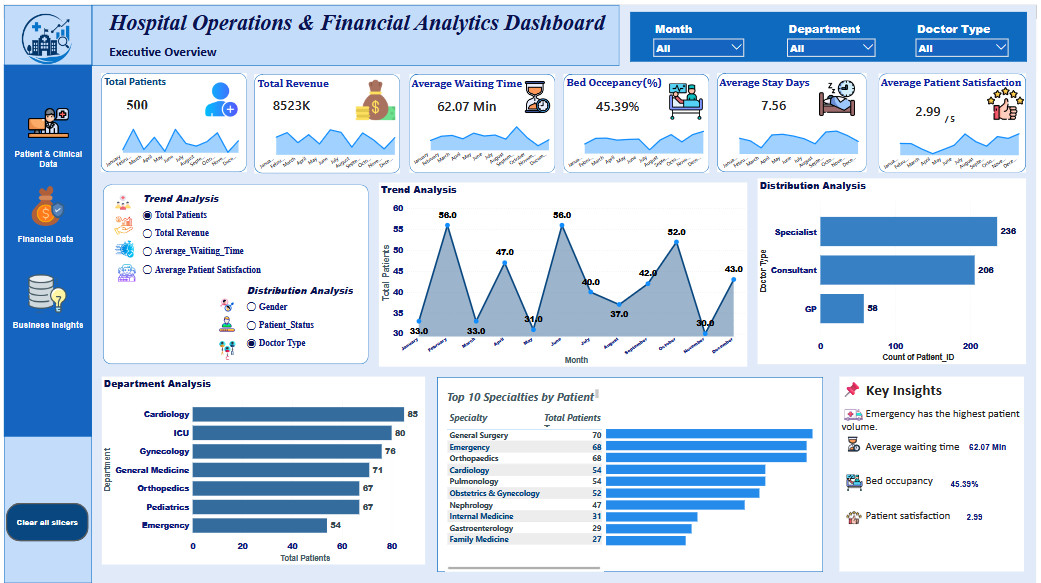

The page's visual inventory and layout, read from the dashboard file:
{"tool":"powerbi","page":{"name":"Page 1","canvas":[2500,1400],"ordinal":0},"visuals":[{"type":"textbox","box":[2023.3,900,446.7,471.7],"z":0},{"type":"shape","box":[240,435,642.5,435],"z":1000},{"type":"shape","box":[0,0,212.5,1400],"z":2000},{"type":"shape","box":[0,145,212.5,1015],"z":3000},{"type":"shape","box":[212.5,0,2288,148],"z":4000},{"type":"textbox","box":[250,6.7,1230,77.5],"z":5000},{"type":"image","box":[0,0,212.5,165],"z":6000},{"type":"shape","box":[235,165,352.5,240],"z":7000},{"type":"shape","box":[1726.5,165,362.5,240],"z":8000},{"type":"shape","box":[606,168,352.5,240],"z":9000},{"type":"shape","box":[982,167,352.5,240],"z":10000},{"type":"shape","box":[1355,167,352.5,240],"z":11000},{"type":"shape","box":[2117.5,166,357.5,240],"z":12000},{"type":"cardVisual","fields":{"Data":["Government_Hospital_Operations_Dataset_Project.Total Patients"]},"box":[264.5,211.8,115.5,60],"z":13000},{"type":"textbox","box":[238,165,176.7,48.3],"z":14000},{"type":"areaChart","fields":{"Y":["Government_Hospital_Operations_Dataset_Project.Total Patients"],"Category":["Government_Hospital_Operations_Dataset_Project.Date.Variation.Date Hierarchy.Month"]},"box":[238,279,345,126],"z":15000},{"type":"textbox","box":[609,169,207,47],"z":16000},{"type":"areaChart","fields":{"Y":["Government_Hospital_Operations_Dataset_Project.Total Revenue"],"Category":["Government_Hospital_Operations_Dataset_Project.Date.Variation.Date Hierarchy.Month"]},"box":[609,287,353,122],"z":17000},{"type":"cardVisual","fields":{"Data":["Government_Hospital_Operations_Dataset_Project.Total Revenue"]},"box":[622,205,156,71],"z":18000},{"type":"cardVisual","fields":{"Data":["Government_Hospital_Operations_Dataset_Project.Average Waiting Time"]},"box":[1020,205,230,75],"z":19000},{"type":"textbox","box":[982,169,290,46],"z":20000},{"type":"areaChart","fields":{"Y":["Avg(Government_Hospital_Operations_Dataset_Project.Waiting_Time_Minutes)"],"Category":["Government_Hospital_Operations_Dataset_Project.Date.Variation.Date Hierarchy.Month"]},"box":[982.5,257.5,352.9,147.1],"z":21000},{"type":"textbox","box":[1357,167,266,46],"z":22000},{"type":"cardVisual","fields":{"Data":["Government_Hospital_Operations_Dataset_Project.Beds Occepancy (%)"]},"box":[1404.3,204.9,193,76],"z":23000},{"type":"cardVisual","fields":{"Data":["Government_Hospital_Operations_Dataset_Project.Average Patient Satisfaction"]},"box":[2177.5,221,123.8,65],"z":24000},{"type":"cardVisual","fields":{"Data":["Government_Hospital_Operations_Dataset_Project.Average Stay Days"]},"box":[1805.1,202.9,132.9,75.7],"z":25000},{"type":"stackedAreaChart","fields":{"Category":["Government_Hospital_Operations_Dataset_Project.Date.Variation.Date Hierarchy.Month"],"Y":["Government_Hospital_Operations_Dataset_Project.Beds Occepancy (%)"]},"box":[1355.7,284.9,352.9,121.4],"z":26000},{"type":"textbox","box":[1726.5,165.7,290,46],"z":27000},{"type":"stackedAreaChart","fields":{"Category":["Government_Hospital_Operations_Dataset_Project.Date.Variation.Date Hierarchy.Month"],"Y":["Government_Hospital_Operations_Dataset_Project.Average Patient Satisfaction"]},"box":[2120,288.5,352.9,121.4],"z":28000},{"type":"areaChart","fields":{"Category":["Government_Hospital_Operations_Dataset_Project.Date.Variation.Date Hierarchy.Month"],"Y":["Government_Hospital_Operations_Dataset_Project.Average Stay Days"]},"box":[1730.8,285.7,352.9,121.4],"z":29000},{"type":"textbox","box":[2117.5,166,352.5,43.8],"z":30000},{"type":"textbox","box":[2272.5,258.5,58.8,60],"z":31000},{"type":"areaChart","title":"Trend Analysis","fields":{"Y":["Government_Hospital_Operations_Dataset_Project.Total Patients"],"Category":["Government_Hospital_Operations_Dataset_Project.Date.Variation.Date Hierarchy.Month"]},"box":[907.5,430,892.9,445.7],"z":32000},{"type":"textbox","box":[250,87.5,317.5,60],"z":33000},{"type":"barChart","title":"Department Analysis","fields":{"Y":["Government_Hospital_Operations_Dataset_Project.Total Patients"],"Category":["Government_Hospital_Operations_Dataset_Project.Department"]},"box":[236.7,900,783.3,455],"z":34000},{"type":"shape","box":[1049.3,902.3,933.3,470],"z":35000},{"type":"textbox","box":[37.5,205,137.5,37.5],"z":36000},{"type":"shape","box":[0.8,218.3,211.7,47.5],"z":37000},{"type":"image","box":[11.7,210,25.8,26.7],"z":38000},{"type":"slicer","fields":{"Values":["Government_Hospital_Operations_Dataset_Project.Date.Variation.Date Hierarchy.Month"]},"box":[12.2,254.4,183.3,285.6],"z":39000},{"type":"slicer","fields":{"Values":["Government_Hospital_Operations_Dataset_Project.Department"]},"box":[12.2,342.2,183.3,310],"z":40000},{"type":"slicer","fields":{"Values":["Government_Hospital_Operations_Dataset_Project.Doctor Type"]},"box":[8.3,441.7,183.3,233.3],"z":41000},{"type":"tableEx","fields":{"Values":["Government_Hospital_Operations_Dataset_Project.Specialty","Government_Hospital_Operations_Dataset_Project.Total Patients"]},"box":[1067.5,977.5,385,395],"z":42000},{"type":"textbox","box":[1067.3,926.3,377.5,48.8],"z":43000},{"type":"barChart","fields":{"Category":["Government_Hospital_Operations_Dataset_Project.Specialty"],"Y":["Government_Hospital_Operations_Dataset_Project.Total Patients"]},"box":[1453.3,1014.3,510,300],"z":44000},{"type":"image","box":[1250,182.5,85,80],"z":45000},{"type":"image","box":[850,180,100,100],"z":46000},{"type":"image","box":[1597.5,190,105,87.5],"z":47000},{"type":"image","box":[1965,182.5,102.5,87.5],"z":48000},{"type":"image","box":[2380,187.5,90,102.5],"z":49000},{"type":"image","box":[480,172,95,112.5],"z":50000},{"type":"actionButton","box":[7.5,1227.5,200,92.5],"z":51000},{"type":"actionButton","box":[17.5,822.5,180,92],"z":52000},{"type":"actionButton","box":[15,947.5,180,92.5],"z":53000},{"type":"actionButton","box":[15,700,180,92],"z":54000},{"type":"slicer","fields":{"Values":["Trend Analysis.Trend Analysis"]},"box":[323,448,322.9,221.4],"z":55000},{"type":"clusteredBarChart","title":"Distribution Analysis","fields":{"Category":["Government_Hospital_Operations_Dataset_Project.Doctor Type"],"Y":["CountNonNull(Government_Hospital_Operations_Dataset_Project.Patient_ID)"]},"box":[1825,420,650,450],"z":56000},{"type":"slicer","fields":{"Values":["Distribution Analysis.Distribution Analysis"]},"box":[575,670,306.7,190],"z":57000},{"type":"cardVisual","fields":{"Data":["Government_Hospital_Operations_Dataset_Project.Beds Occepancy (%)"]},"box":[2263.3,1126.7,134.3,65.7],"z":58000},{"type":"cardVisual","fields":{"Data":["Government_Hospital_Operations_Dataset_Project.Average Patient Satisfaction"]},"box":[2301.7,1206.7,123.8,65],"z":59000},{"type":"cardVisual","fields":{"Data":["Government_Hospital_Operations_Dataset_Project.Average Waiting Time"]},"box":[2308.3,1026.7,156.7,86.7],"z":60000},{"type":"image","box":[2038.3,1045,40,38.3],"z":61000},{"type":"image","box":[2035,1136.7,48.3,41.7],"z":62000},{"type":"image","box":[2040,1206.7,36.7,66.7],"z":63000},{"type":"image","box":[2023.3,970,66.7,45],"z":64000},{"type":"image","box":[261,459,55,37.5],"z":65000},{"type":"image","box":[257,512,63.8,46.2],"z":66000},{"type":"image","box":[265,569,55,45],"z":67000},{"type":"image","box":[268,627,58.8,42.5],"z":68000},{"type":"image","box":[513,753,55,38.8],"z":69000},{"type":"image","box":[511,707,58.8,38.8],"z":70000},{"type":"image","box":[507,814,68,46],"z":71000}]}

Visuals, with their boxes in screenshot pixels (x1, y1, x2, y2), scaled from the page's 2500x1400 canvas onto the 1041x583 screenshot:
textbox: Rect(843, 375, 1029, 571)
shape: Rect(100, 181, 367, 362)
shape: Rect(0, 0, 88, 582)
shape: Rect(0, 60, 88, 483)
shape: Rect(88, 0, 1040, 62)
textbox: Rect(104, 3, 616, 35)
image: Rect(0, 0, 88, 69)
shape: Rect(98, 69, 245, 169)
shape: Rect(719, 69, 870, 169)
shape: Rect(252, 70, 399, 170)
shape: Rect(409, 70, 556, 169)
shape: Rect(564, 70, 711, 169)
shape: Rect(882, 69, 1031, 169)
cardVisual - Government_Hospital_Operations_Dataset_Project.Total Patients: Rect(110, 88, 158, 113)
textbox: Rect(99, 69, 173, 89)
areaChart - Government_Hospital_Operations_Dataset_Project.Total Patients x Government_Hospital_Operations_Dataset_Project.Date.Variation.Date Hierarchy.Month: Rect(99, 116, 243, 169)
textbox: Rect(254, 70, 340, 90)
areaChart - Government_Hospital_Operations_Dataset_Project.Total Revenue x Government_Hospital_Operations_Dataset_Project.Date.Variation.Date Hierarchy.Month: Rect(254, 120, 401, 170)
cardVisual - Government_Hospital_Operations_Dataset_Project.Total Revenue: Rect(259, 85, 324, 115)
cardVisual - Government_Hospital_Operations_Dataset_Project.Average Waiting Time: Rect(425, 85, 520, 117)
textbox: Rect(409, 70, 530, 90)
areaChart - Avg(Government_Hospital_Operations_Dataset_Project.Waiting_Time_Minutes) x Government_Hospital_Operations_Dataset_Project.Date.Variation.Date Hierarchy.Month: Rect(409, 107, 556, 168)
textbox: Rect(565, 70, 676, 89)
cardVisual - Government_Hospital_Operations_Dataset_Project.Beds Occepancy (%): Rect(585, 85, 665, 117)
cardVisual - Government_Hospital_Operations_Dataset_Project.Average Patient Satisfaction: Rect(907, 92, 958, 119)
cardVisual - Government_Hospital_Operations_Dataset_Project.Average Stay Days: Rect(752, 84, 807, 116)
stackedAreaChart - Government_Hospital_Operations_Dataset_Project.Date.Variation.Date Hierarchy.Month x Government_Hospital_Operations_Dataset_Project.Beds Occepancy (%): Rect(565, 119, 711, 169)
textbox: Rect(719, 69, 840, 88)
stackedAreaChart - Government_Hospital_Operations_Dataset_Project.Date.Variation.Date Hierarchy.Month x Government_Hospital_Operations_Dataset_Project.Average Patient Satisfaction: Rect(883, 120, 1030, 171)
areaChart - Government_Hospital_Operations_Dataset_Project.Date.Variation.Date Hierarchy.Month x Government_Hospital_Operations_Dataset_Project.Average Stay Days: Rect(721, 119, 868, 170)
textbox: Rect(882, 69, 1029, 87)
textbox: Rect(946, 108, 971, 133)
"Trend Analysis" areaChart: Rect(378, 179, 750, 365)
textbox: Rect(104, 36, 236, 61)
"Department Analysis" barChart: Rect(99, 375, 425, 564)
shape: Rect(437, 376, 826, 571)
textbox: Rect(16, 85, 73, 101)
shape: Rect(0, 91, 88, 111)
image: Rect(5, 87, 16, 99)
slicer - Government_Hospital_Operations_Dataset_Project.Date.Variation.Date Hierarchy.Month: Rect(5, 106, 81, 225)
slicer - Government_Hospital_Operations_Dataset_Project.Department: Rect(5, 143, 81, 272)
slicer - Government_Hospital_Operations_Dataset_Project.Doctor Type: Rect(3, 184, 80, 281)
tableEx - Government_Hospital_Operations_Dataset_Project.Specialty x Government_Hospital_Operations_Dataset_Project.Total Patients: Rect(445, 407, 605, 572)
textbox: Rect(444, 386, 602, 406)
barChart - Government_Hospital_Operations_Dataset_Project.Specialty x Government_Hospital_Operations_Dataset_Project.Total Patients: Rect(605, 422, 818, 547)
image: Rect(520, 76, 556, 109)
image: Rect(354, 75, 396, 117)
image: Rect(665, 79, 709, 116)
image: Rect(818, 76, 861, 112)
image: Rect(991, 78, 1029, 121)
image: Rect(200, 72, 239, 118)
actionButton: Rect(3, 511, 86, 550)
actionButton: Rect(7, 343, 82, 381)
actionButton: Rect(6, 395, 81, 433)
actionButton: Rect(6, 292, 81, 330)
slicer - Trend Analysis.Trend Analysis: Rect(134, 187, 269, 279)
"Distribution Analysis" clusteredBarChart: Rect(760, 175, 1031, 362)
slicer - Distribution Analysis.Distribution Analysis: Rect(239, 279, 367, 358)
cardVisual - Government_Hospital_Operations_Dataset_Project.Beds Occepancy (%): Rect(942, 469, 998, 497)
cardVisual - Government_Hospital_Operations_Dataset_Project.Average Patient Satisfaction: Rect(958, 503, 1010, 530)
cardVisual - Government_Hospital_Operations_Dataset_Project.Average Waiting Time: Rect(961, 428, 1026, 464)
image: Rect(849, 435, 865, 451)
image: Rect(847, 473, 867, 491)
image: Rect(849, 503, 865, 530)
image: Rect(843, 404, 870, 423)
image: Rect(109, 191, 132, 207)
image: Rect(107, 213, 134, 232)
image: Rect(110, 237, 133, 256)
image: Rect(112, 261, 136, 279)
image: Rect(214, 314, 237, 330)
image: Rect(213, 294, 237, 311)
image: Rect(211, 339, 239, 358)
